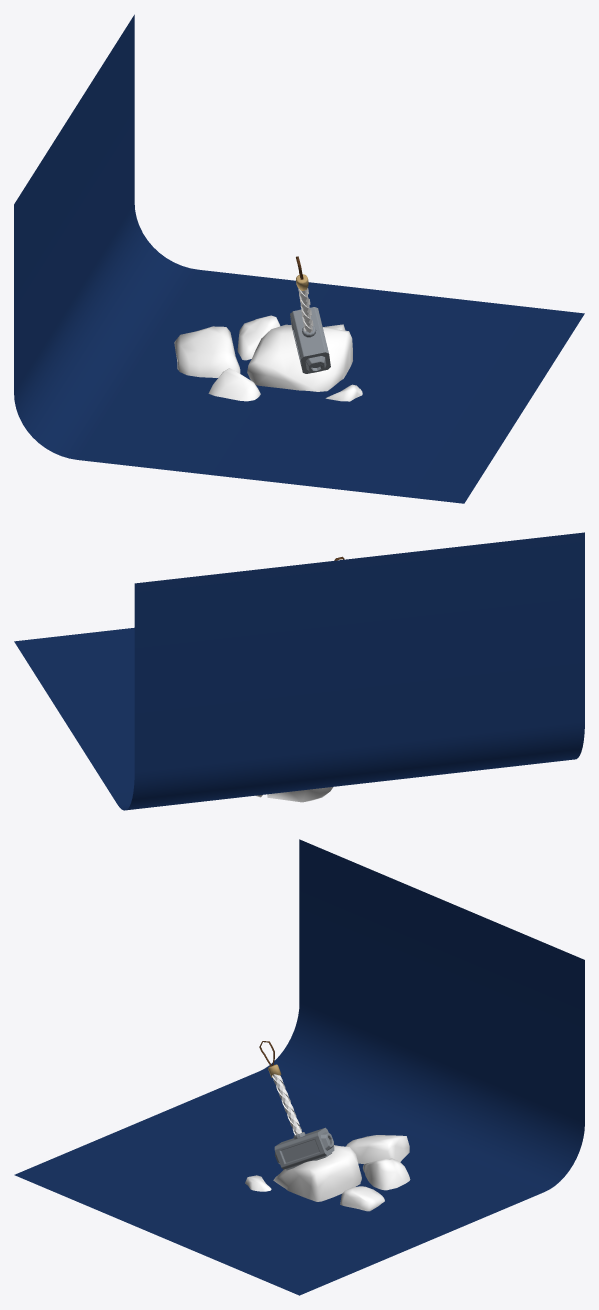
Rendered from hammer.glb.
The picture shows the model from 3 angles, top to bottom: view 1: azimuth 30°, elevation 25°; view 2: azimuth 150°, elevation 25°; view 3: azimuth 270°, elevation 25°; orthographic projection. The views are drawn at different scales.
Parts seen in each view (by area): view 1: Plane, rock.004, rock.006, Cube, rock.005, rock.002; view 2: Plane, rock.006; view 3: Plane, rock.004, Cube, rock.006, rock.002, rock.001.
Boxes of the visible parts, <box> form: Plane: <box>14,14,584,503</box>; rock.004: <box>247,324,352,391</box>; rock.006: <box>174,326,240,377</box>; Cube: <box>290,256,330,373</box>; rock.005: <box>208,368,260,401</box>; rock.002: <box>237,315,280,360</box>; Plane: <box>14,532,584,810</box>; rock.006: <box>267,787,333,802</box>; Plane: <box>14,839,584,1295</box>; rock.004: <box>273,1145,361,1201</box>; Cube: <box>259,1041,334,1170</box>; rock.006: <box>346,1135,409,1163</box>; rock.002: <box>363,1158,410,1190</box>; rock.001: <box>340,1186,384,1211</box>.
Size of the model in its own units: 22.37 by 11.11 by 22.37.
